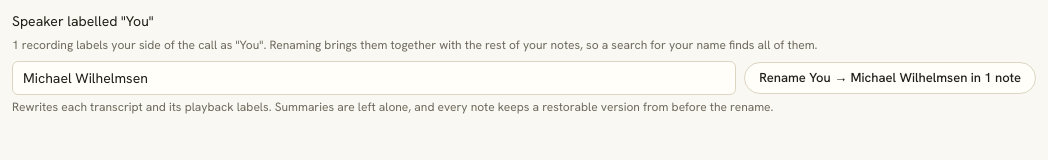
Test: RenameYouRow prefill › cannot be run with an empty name
Clear the field named "rename you to" at point(374, 78), box [12,61,736,95]
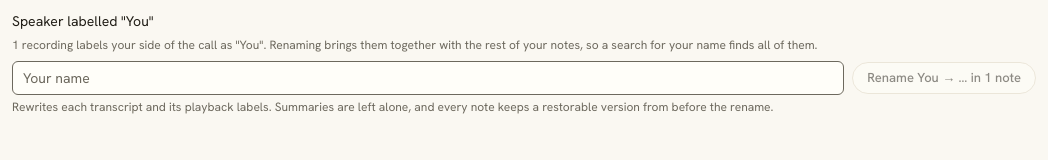
Expected: the button "Rename You → … in 1 note" is disabled, [852,62,1036,94]
